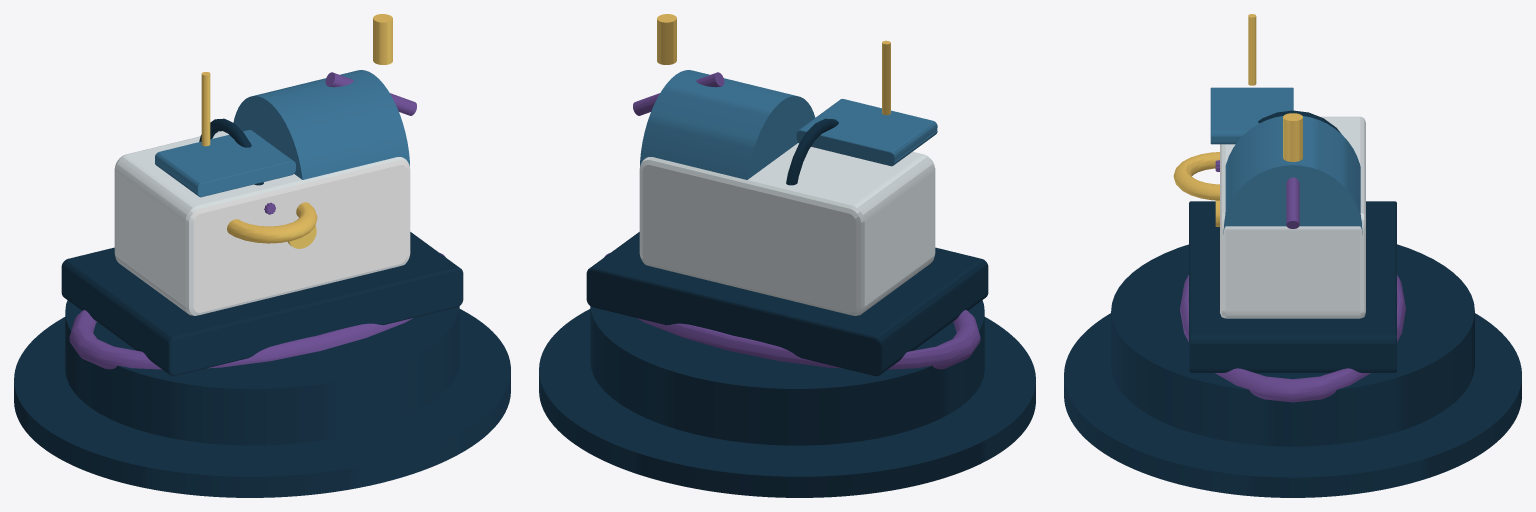
The model's file is 0209_生活中的物理图鉴_干冰.glb.
3 renders of one model, left to right at view 1: azimuth 30°, elevation 25°; view 2: azimuth 150°, elevation 25°; view 3: azimuth 270°, elevation 25°, orthographic. The views are drawn at different scales.
Parts seen in each view (by area): view 1: card_0209; view 2: card_0209; view 3: card_0209.
Boxes of the visible parts, x1,y1,x2,y2 form: card_0209: (14, 14, 510, 497); card_0209: (539, 14, 1035, 497); card_0209: (1064, 14, 1521, 497).
Size of the model in its own units: 1.28 by 1 by 1.21.
